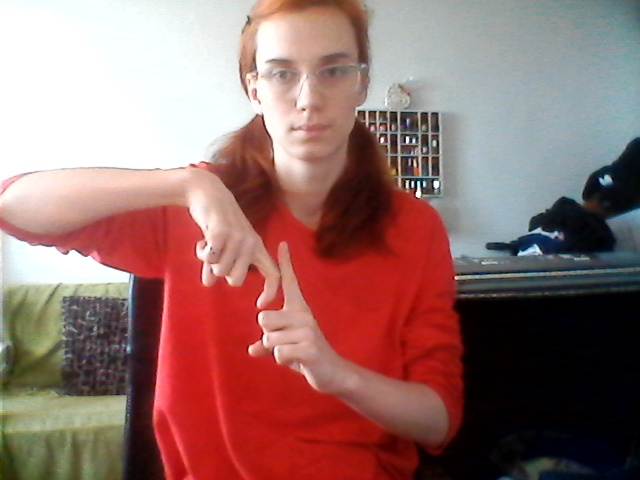k: (166, 167, 319, 386)
